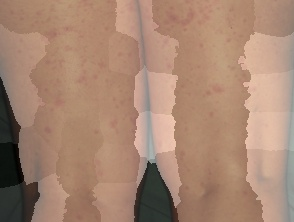SJS-TEN: (140, 0, 294, 220), (7, 0, 148, 222)
